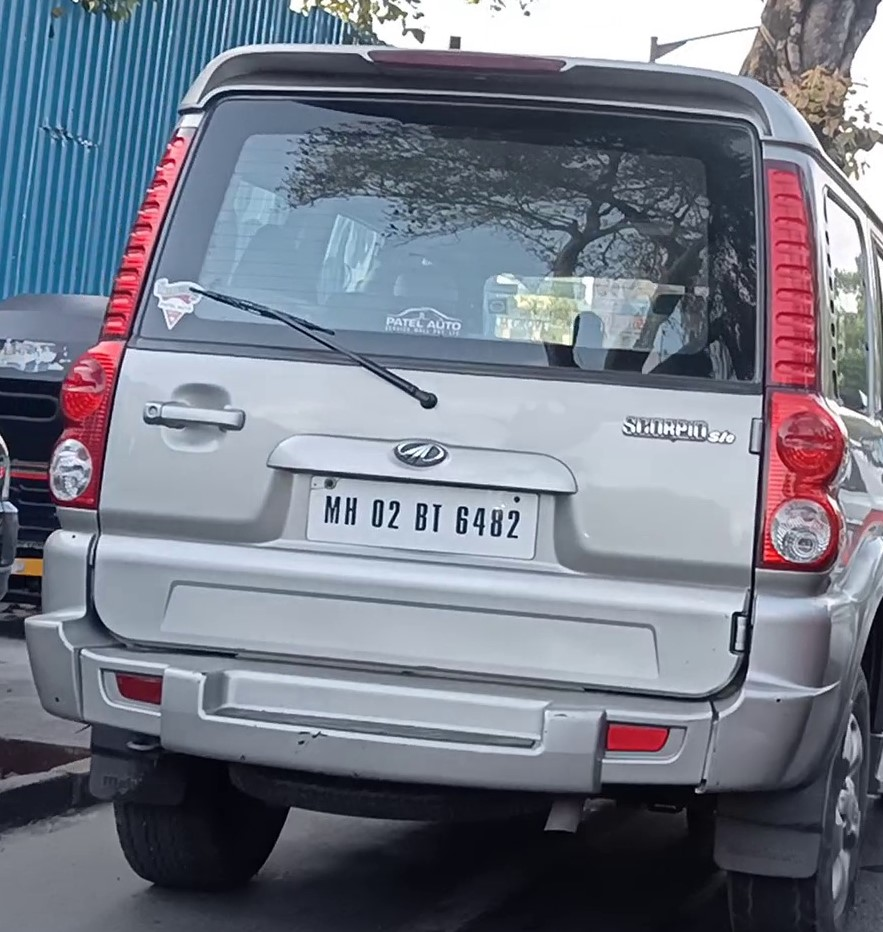MH02BT6482: (307, 474, 540, 560)
